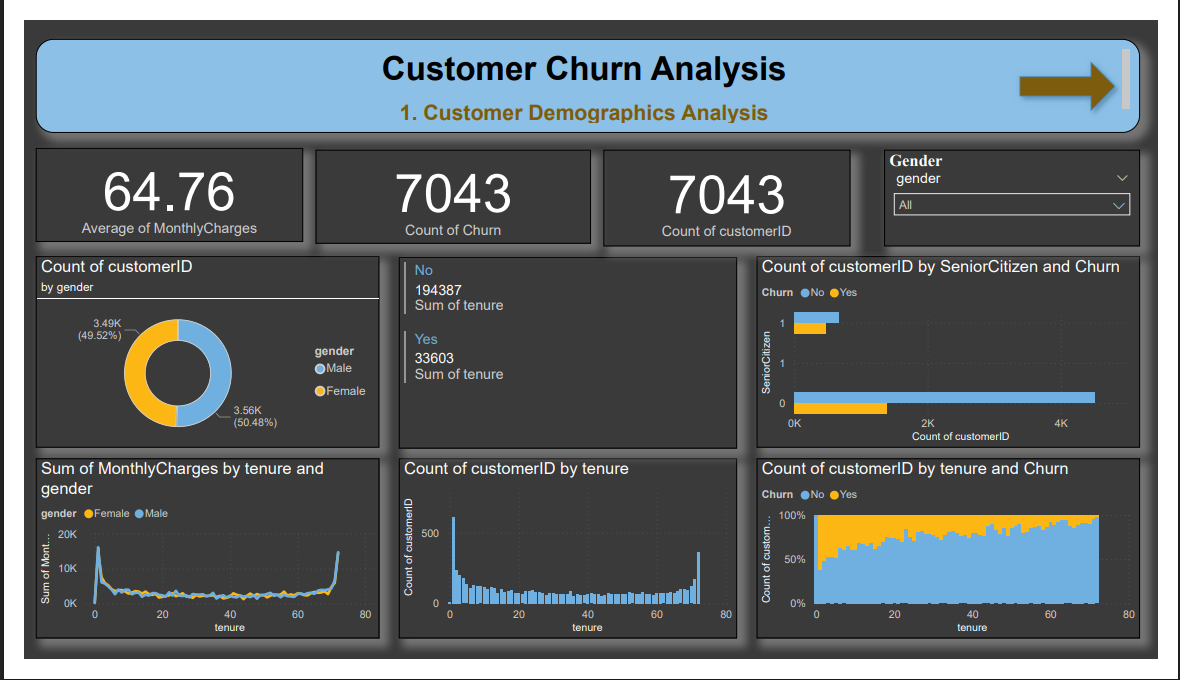

The page's visual inventory and layout, read from the dashboard file:
{"tool":"powerbi","page":{"name":"Page 1","canvas":[1280,720],"ordinal":0},"visuals":[{"type":"donutChart","fields":{"Category":["WA_Fn-UseC_-Telco-Customer-Churn.gender"],"Y":["CountNonNull(WA_Fn-UseC_-Telco-Customer-Churn.customerID)"]},"box":[13.4,265.8,387.7,215.8],"z":0},{"type":"clusteredBarChart","fields":{"Category":["WA_Fn-UseC_-Telco-Customer-Churn.SeniorCitizen"],"Series":["WA_Fn-UseC_-Telco-Customer-Churn.Churn"],"Y":["CountNonNull(WA_Fn-UseC_-Telco-Customer-Churn.customerID)"]},"box":[826.7,265.8,432.8,215.8],"z":1000},{"type":"clusteredColumnChart","fields":{"Category":["WA_Fn-UseC_-Telco-Customer-Churn.tenure"],"Y":["CountNonNull(cca data set.customerID)"]},"box":[423.1,493.8,381.6,203.6],"z":2000},{"type":"hundredPercentStackedColumnChart","fields":{"Category":["WA_Fn-UseC_-Telco-Customer-Churn.tenure"],"Series":["WA_Fn-UseC_-Telco-Customer-Churn.Churn"],"Y":["CountNonNull(WA_Fn-UseC_-Telco-Customer-Churn.customerID)"]},"box":[826.7,493.8,432.8,203.6],"z":3000},{"type":"lineChart","fields":{"Category":["WA_Fn-UseC_-Telco-Customer-Churn.tenure"],"Series":["WA_Fn-UseC_-Telco-Customer-Churn.gender"],"Y":["Sum(WA_Fn-UseC_-Telco-Customer-Churn.MonthlyCharges)"]},"box":[13.4,493.8,387.7,203.6],"z":4000},{"type":"multiRowCard","fields":{"Values":["Sum(WA_Fn-UseC_-Telco-Customer-Churn.tenure)","WA_Fn-UseC_-Telco-Customer-Churn.Churn"]},"box":[423.1,267,381.6,215.8],"z":5000},{"type":"card","fields":{"Values":["Avg(WA_Fn-UseC_-Telco-Customer-Churn.MonthlyCharges)"]},"box":[13.4,143.9,301.2,106.1],"z":6000},{"type":"card","fields":{"Values":["CountNonNull(WA_Fn-UseC_-Telco-Customer-Churn.Churn)"]},"box":[329.2,146.3,310.9,106.1],"z":7000},{"type":"card","fields":{"Values":["CountNonNull(WA_Fn-UseC_-Telco-Customer-Churn.customerID)"]},"box":[653.5,146.3,279.2,108.5],"z":8000},{"type":"textbox","box":[13.4,20.7,1246.1,106.1],"z":9000},{"type":"slicer","title":"Gender","fields":{"Values":["WA_Fn-UseC_-Telco-Customer-Churn.gender"]},"box":[970.5,146.3,289,108.5],"z":10000},{"type":"shape","box":[1114.8,36.6,126.1,74.4],"z":11000}]}

Visuals, with their boxes in screenshot pixels (x1, y1, x2, y2), scaled from the page's 1280x720 canvas onto the 1180x680 screenshot:
donutChart - WA_Fn-UseC_-Telco-Customer-Churn.gender x CountNonNull(WA_Fn-UseC_-Telco-Customer-Churn.customerID): select_region(12, 251, 370, 455)
clusteredBarChart - WA_Fn-UseC_-Telco-Customer-Churn.SeniorCitizen x WA_Fn-UseC_-Telco-Customer-Churn.Churn: select_region(762, 251, 1161, 455)
clusteredColumnChart - WA_Fn-UseC_-Telco-Customer-Churn.tenure x CountNonNull(cca data set.customerID): select_region(390, 466, 742, 659)
hundredPercentStackedColumnChart - WA_Fn-UseC_-Telco-Customer-Churn.tenure x WA_Fn-UseC_-Telco-Customer-Churn.Churn: select_region(762, 466, 1161, 659)
lineChart - WA_Fn-UseC_-Telco-Customer-Churn.tenure x WA_Fn-UseC_-Telco-Customer-Churn.gender: select_region(12, 466, 370, 659)
multiRowCard - Sum(WA_Fn-UseC_-Telco-Customer-Churn.tenure) x WA_Fn-UseC_-Telco-Customer-Churn.Churn: select_region(390, 252, 742, 456)
card - Avg(WA_Fn-UseC_-Telco-Customer-Churn.MonthlyCharges): select_region(12, 136, 290, 236)
card - CountNonNull(WA_Fn-UseC_-Telco-Customer-Churn.Churn): select_region(303, 138, 590, 238)
card - CountNonNull(WA_Fn-UseC_-Telco-Customer-Churn.customerID): select_region(602, 138, 860, 241)
textbox: select_region(12, 20, 1161, 120)
"Gender" slicer: select_region(895, 138, 1161, 241)
shape: select_region(1028, 35, 1144, 105)
